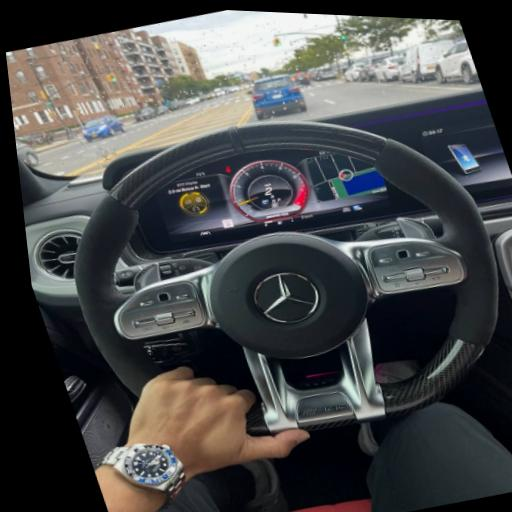Hands-on-the-Wheel: (72, 312, 347, 512)
